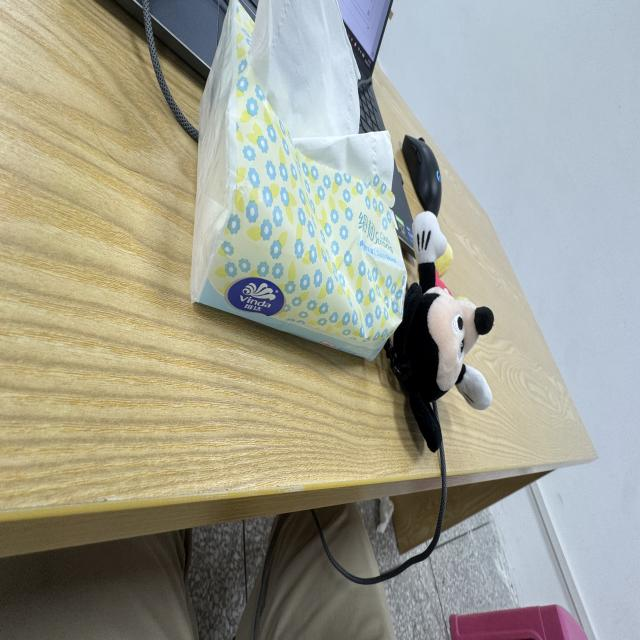mickey: (387, 212, 493, 451)
tissue: (192, 0, 406, 358), (251, 0, 393, 184), (251, 0, 359, 139), (294, 131, 393, 185), (377, 497, 394, 533)
